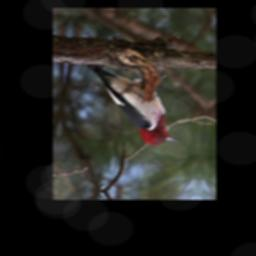Woodpecker: (73, 63, 189, 149)
